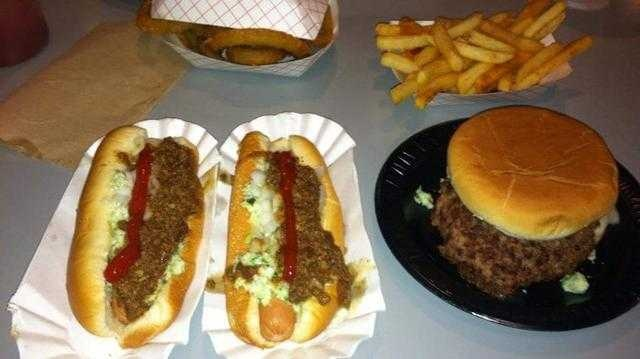hamburger: (424, 92, 617, 291)
